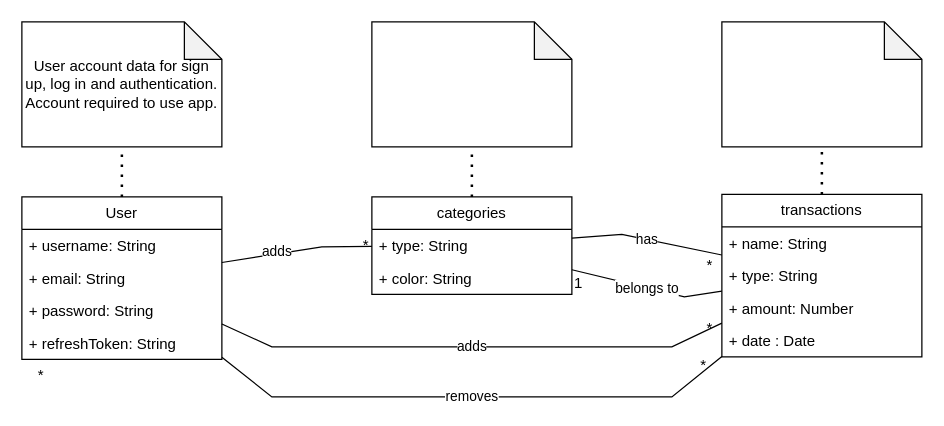
Image size: 944x426. Some labels were removed from this diagram. Here are the shapes that lost their labels. From the top down, the centre of each, then its label:
[471,84]: category for transactions
[821,84]: transaction
